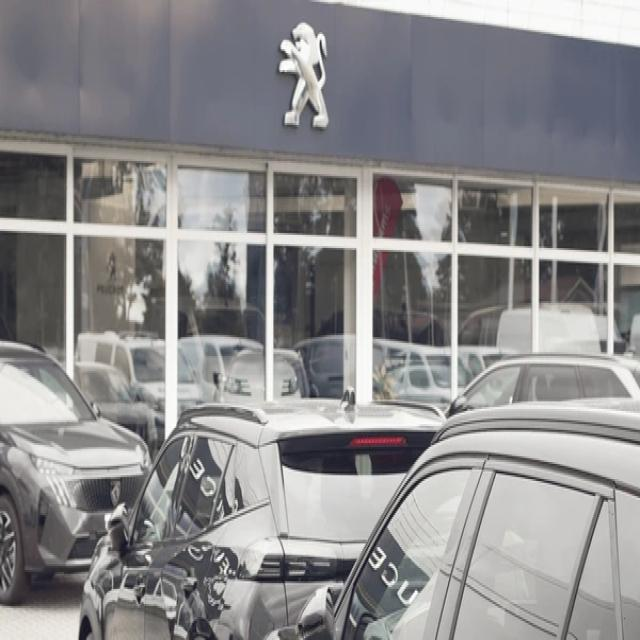pegout: (276, 12, 333, 134)
